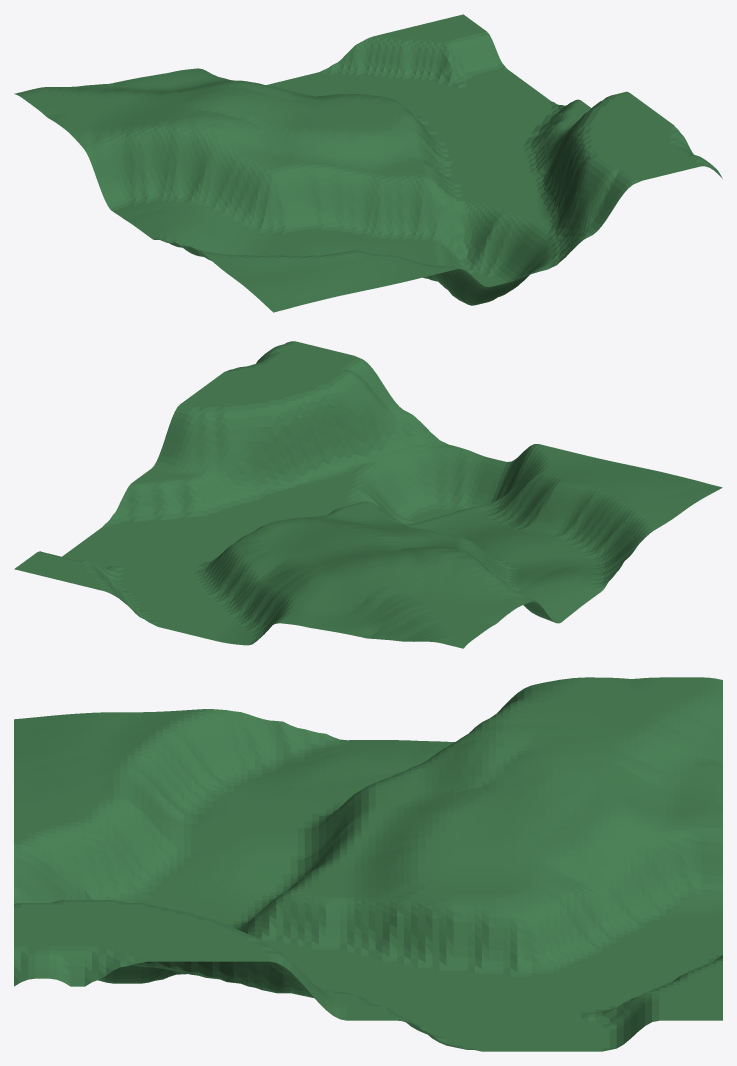
File: landscape2.fbx
3 renders of one model, top to bottom at view 1: azimuth 30°, elevation 25°; view 2: azimuth 150°, elevation 25°; view 3: azimuth 270°, elevation 25°, orthographic. The views are drawn at different scales.
Visible parts, largest first — view 1: pPlane1; view 2: pPlane1; view 3: pPlane1.
Part boxes in pixels (x1,y1,x2,y2): pPlane1: (14,14,722,312); pPlane1: (14,341,722,648); pPlane1: (14,677,722,1051).
Size of the model in its own units: 50 by 11.12 by 50.
